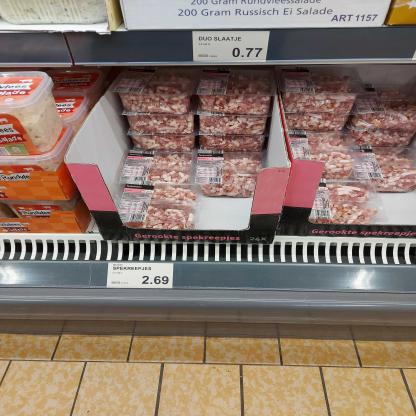prtg: (193, 32, 271, 64), (107, 263, 175, 290)
